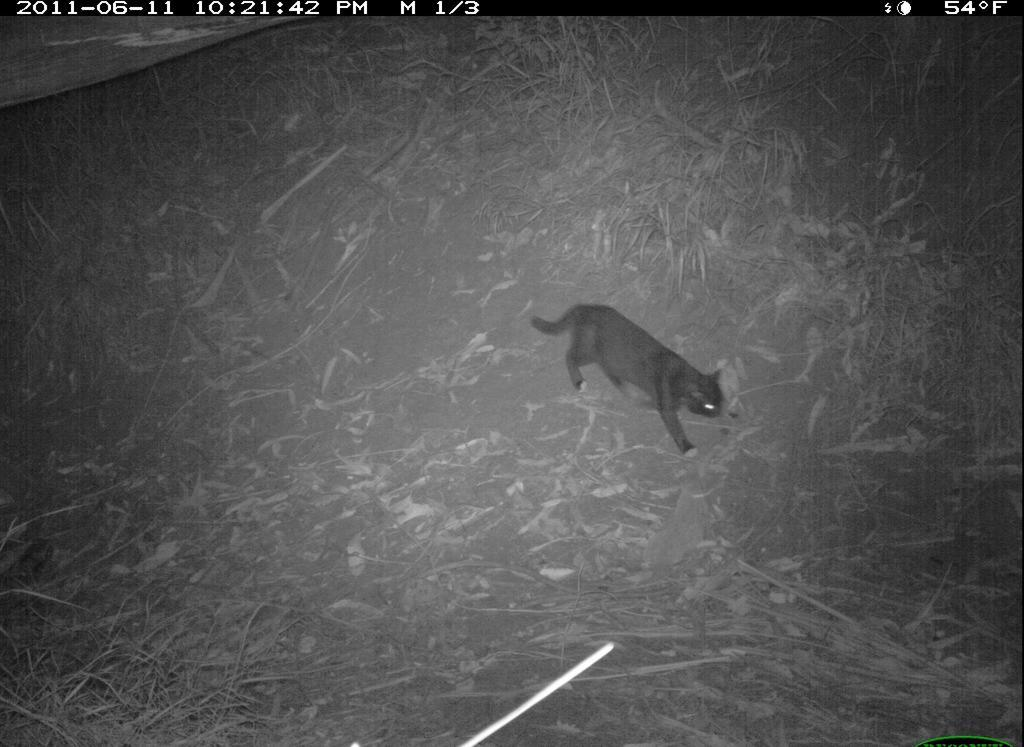cat: (534, 299, 734, 459)
